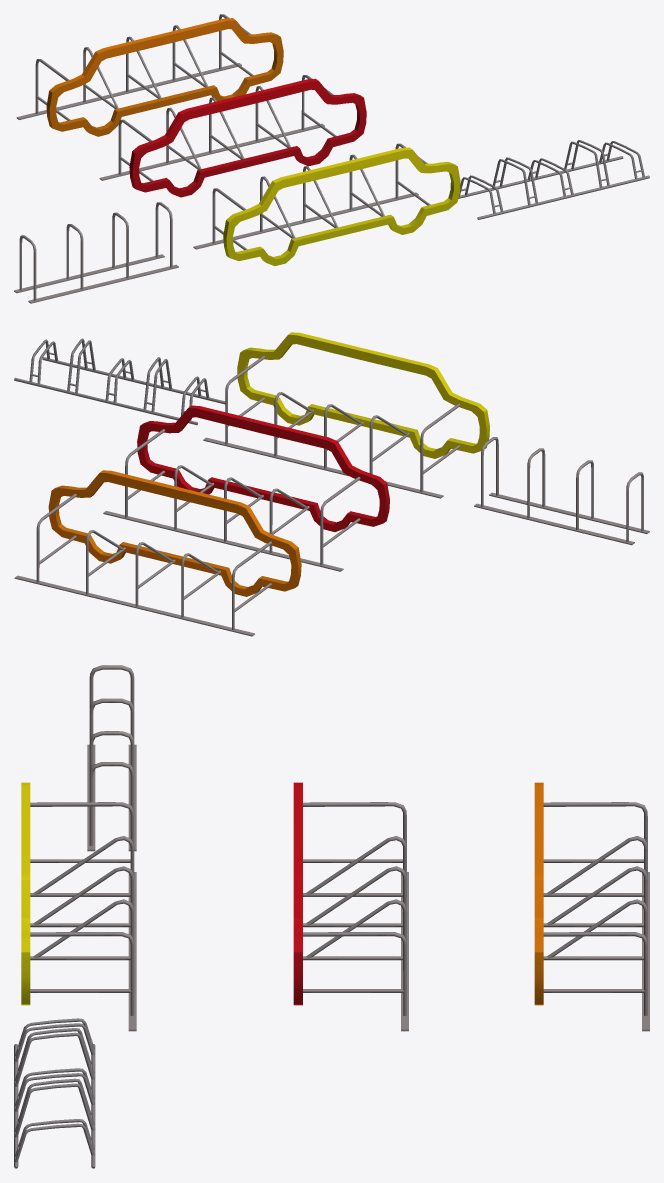
Rendered from pyoratelineet.fbx.
3 renders of one model, top to bottom at view 1: azimuth 30°, elevation 25°; view 2: azimuth 150°, elevation 25°; view 3: azimuth 270°, elevation 25°, orthographic. The views are drawn at different scales.
Visible parts, largest first — view 1: pyorateline_b_kel, pyorateline_b_pun, pyorateline_b_ora, pyorateline_a, pyorateline_c; view 2: pyorateline_b_ora, pyorateline_b_kel, pyorateline_b_pun, pyorateline_a, pyorateline_c; view 3: pyorateline_b_kel, pyorateline_b_pun, pyorateline_b_ora, pyorateline_a, pyorateline_c.
Part boxes in pixels (x1,y1,x2,y2): pyorateline_b_kel: (193,143,460,265); pyorateline_b_pun: (99,75,366,197); pyorateline_b_ora: (16,14,283,136); pyorateline_a: (458,140,649,219); pyorateline_c: (14,202,178,303); pyorateline_b_ora: (14,470,301,636); pyorateline_b_kel: (203,332,489,498); pyorateline_b_pun: (103,405,389,571); pyorateline_a: (14,338,225,425); pyorateline_c: (474,437,649,545); pyorateline_b_kel: (21,782,136,1031); pyorateline_b_pun: (293,782,408,1031); pyorateline_b_ora: (534,782,649,1031); pyorateline_a: (14,1018,95,1168); pyorateline_c: (87,665,136,851).
Size of the model in its own units: 34.66 by 4.78 by 22.14.
